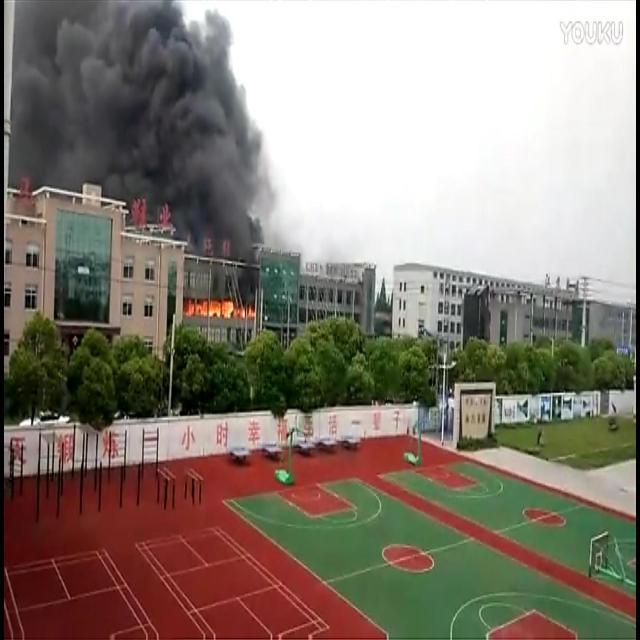fire: (186, 294, 254, 320)
smoke: (10, 6, 284, 255)
